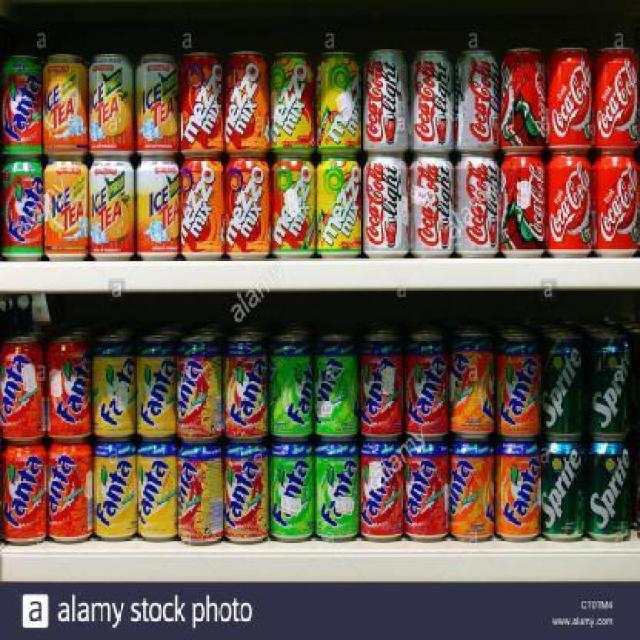Drinks: (592, 150, 640, 259), (0, 335, 48, 443), (362, 153, 410, 259), (499, 150, 545, 259), (223, 333, 269, 441), (176, 335, 222, 443), (546, 152, 592, 260), (408, 50, 456, 153), (362, 50, 410, 153), (47, 440, 95, 543), (0, 443, 48, 546), (545, 47, 593, 149), (449, 328, 493, 439), (313, 333, 359, 439), (268, 333, 314, 439), (47, 335, 93, 441), (454, 152, 500, 258), (409, 153, 455, 259), (586, 331, 632, 437), (592, 48, 640, 148), (500, 48, 548, 148), (454, 51, 502, 151), (178, 442, 224, 546), (494, 438, 540, 541), (224, 443, 270, 546), (495, 328, 539, 434), (404, 330, 448, 436), (359, 332, 403, 438), (540, 330, 584, 436), (93, 335, 136, 441), (585, 438, 629, 541), (540, 437, 584, 540), (450, 440, 494, 543), (1, 55, 44, 159), (135, 334, 177, 440), (404, 440, 448, 540), (359, 442, 403, 542), (315, 442, 359, 542), (270, 443, 314, 543), (0, 159, 43, 261), (94, 440, 137, 542), (137, 442, 177, 544)
